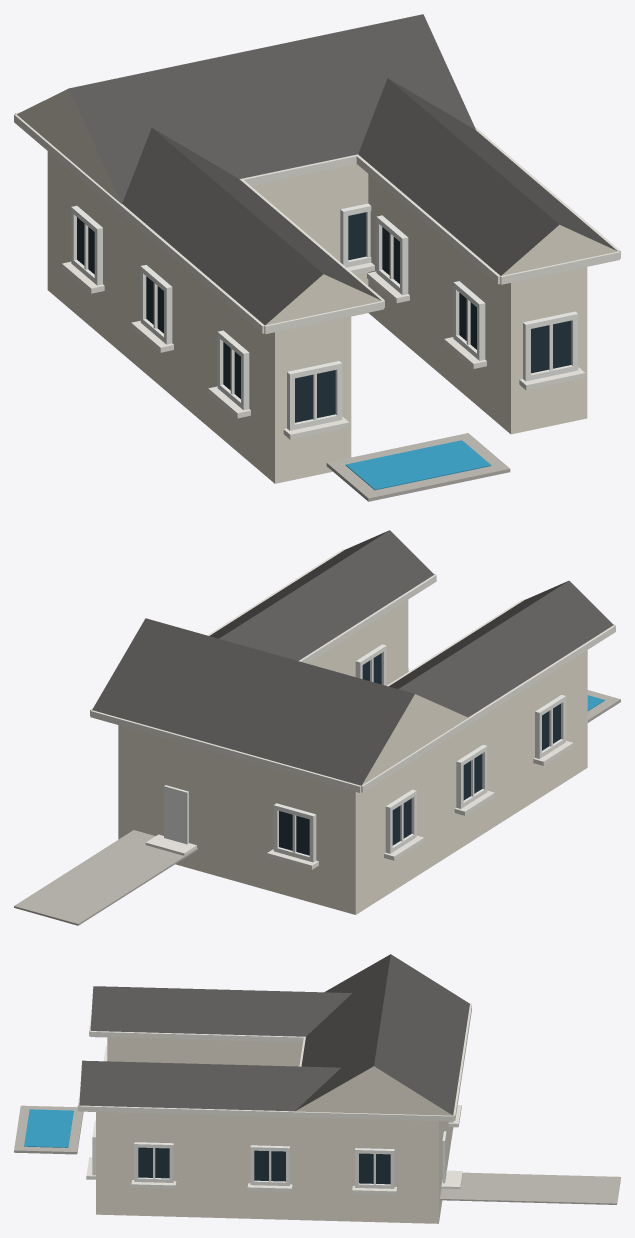
The picture shows the model from 3 angles, top to bottom: view 1: azimuth 30°, elevation 25°; view 2: azimuth 150°, elevation 25°; view 3: azimuth 270°, elevation 25°; orthographic projection. The views are drawn at different scales.
Visible parts, largest first — view 1: b3930; view 2: b3930; view 3: b3930.
Part boxes in pixels (x1,y1,x2,y2): b3930: (14, 14, 620, 501); b3930: (14, 530, 620, 925); b3930: (14, 954, 620, 1223).
Bounding box in the file's own units: 4607 × 2832 × 9576.
